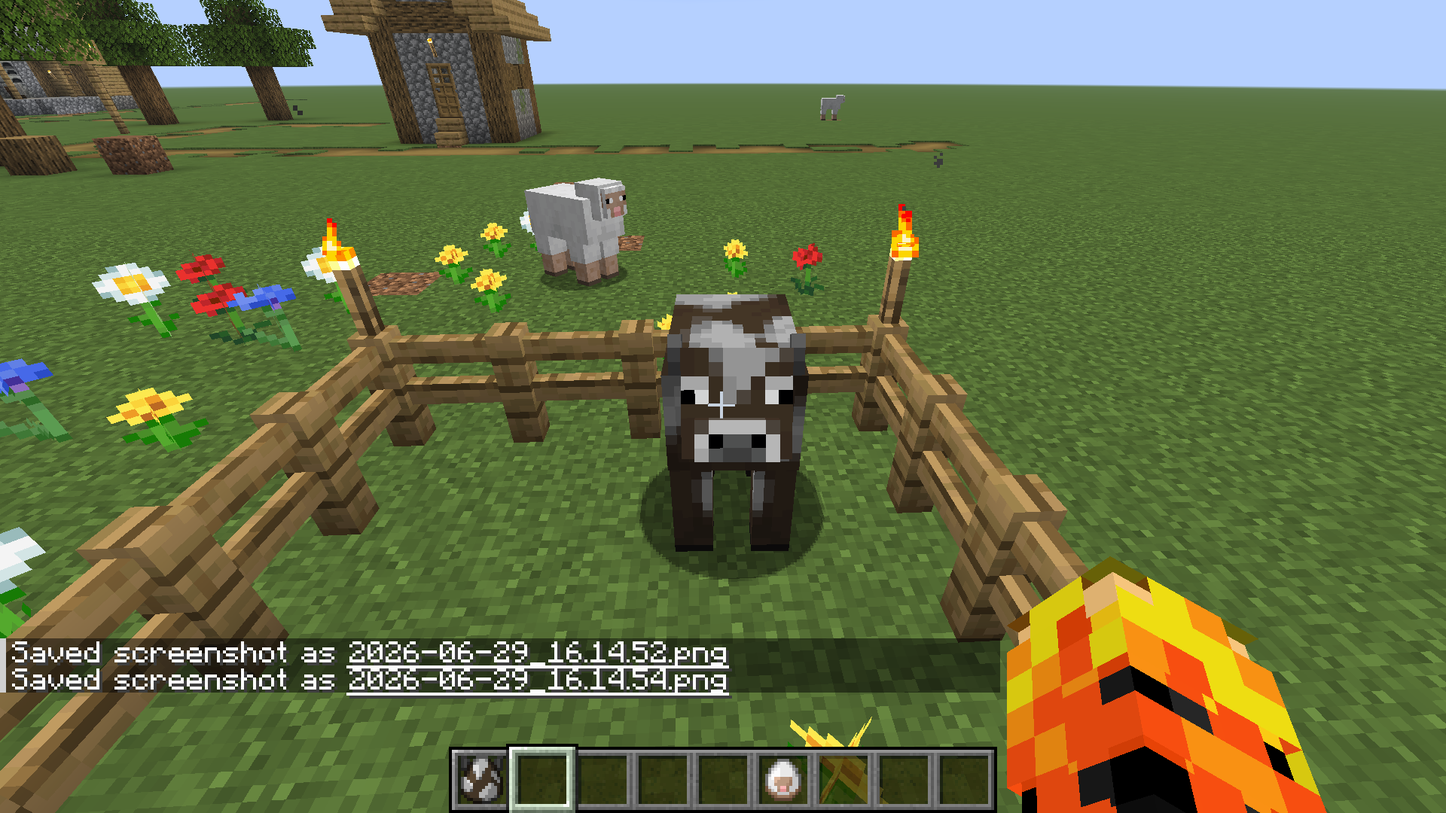Sheep: (523, 173, 642, 292), (819, 91, 846, 124)
Torch: (313, 225, 406, 341), (872, 196, 927, 340)
Tree: (187, 2, 319, 129), (120, 0, 190, 136)
cow: (669, 291, 816, 567)
flower: (789, 708, 905, 813), (84, 252, 188, 354), (0, 341, 74, 466), (101, 380, 208, 459), (229, 274, 312, 363), (791, 229, 825, 304), (721, 223, 753, 284)
